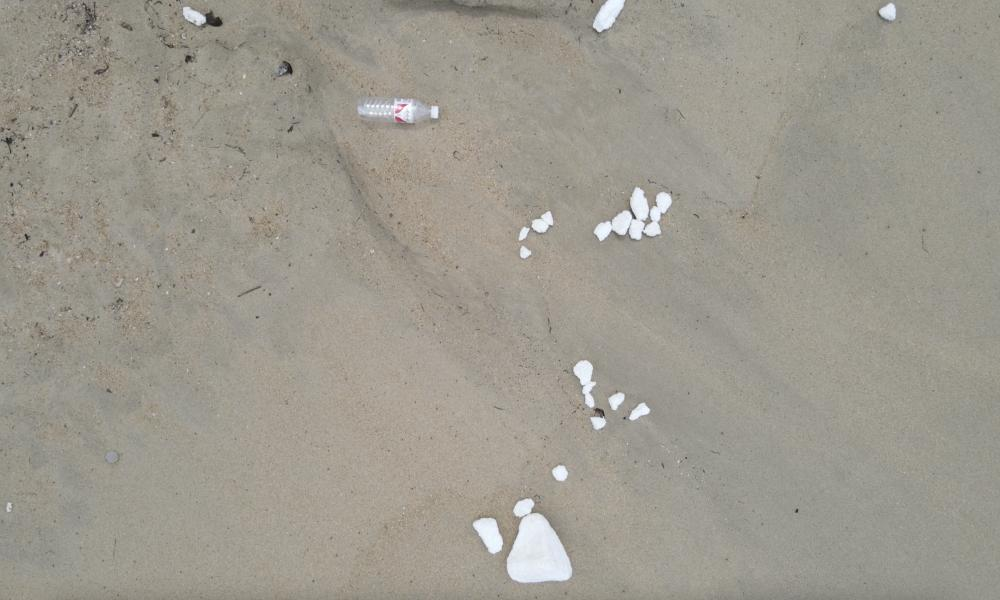plastic bottle: (359, 94, 439, 128)
styrofoam: (508, 512, 575, 584), (613, 191, 670, 234), (590, 0, 623, 33), (475, 518, 503, 552), (576, 359, 594, 407), (185, 6, 206, 30), (879, 3, 898, 23), (555, 467, 568, 480)
